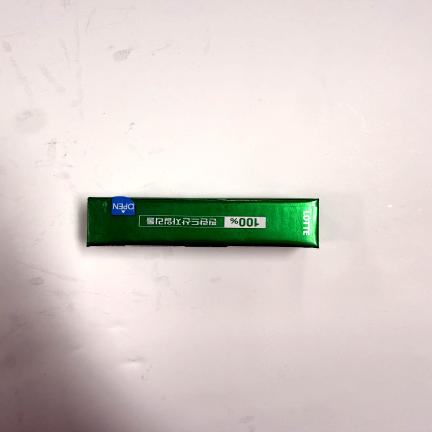gum_green: (88, 199, 320, 250)
